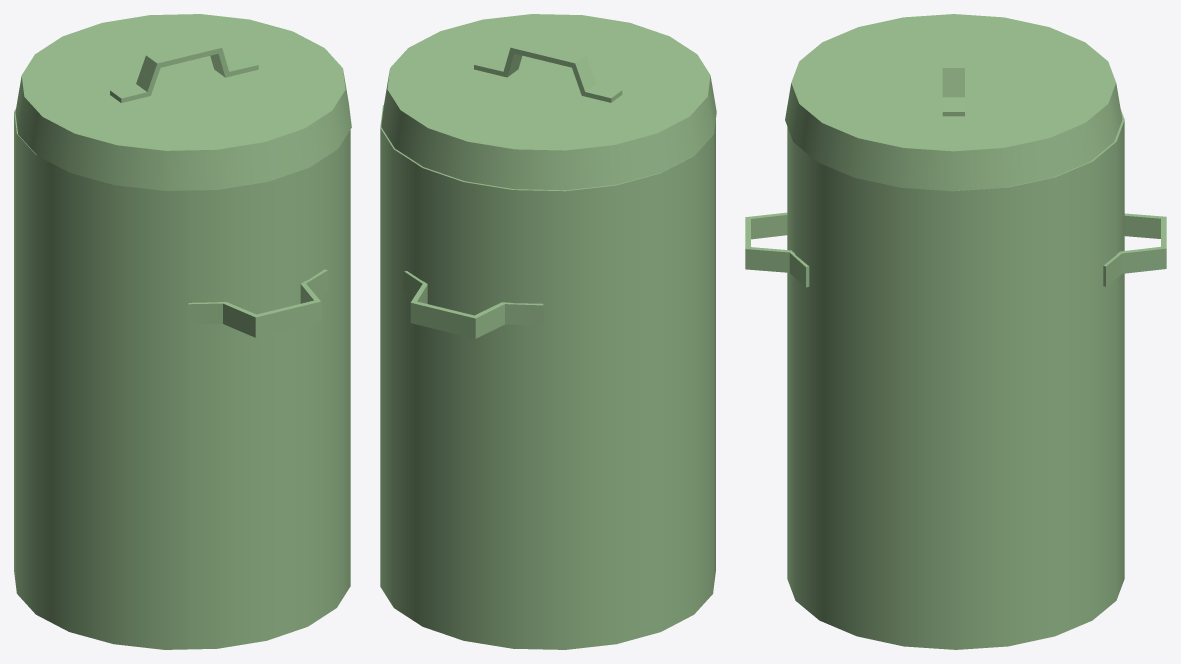
Rendered from split-trash.fbx.
The picture shows the model from 3 angles, left to right: view 1: azimuth 30°, elevation 25°; view 2: azimuth 150°, elevation 25°; view 3: azimuth 270°, elevation 25°; orthographic projection.
Parts seen in each view (by area): view 1: Object340, Object341; view 2: Object340, Object341; view 3: Object340, Object341.
Boxes of the visible parts, left/top/right/bottom form: Object340: left=14, top=109, right=350, bottom=649; Object341: left=15, top=14, right=351, bottom=190; Object340: left=380, top=105, right=715, bottom=649; Object341: left=381, top=14, right=716, bottom=190; Object340: left=745, top=109, right=1166, bottom=649; Object341: left=785, top=14, right=1122, bottom=191.
Bounding box in the file's own units: 60.04 × 103 × 74.92.
